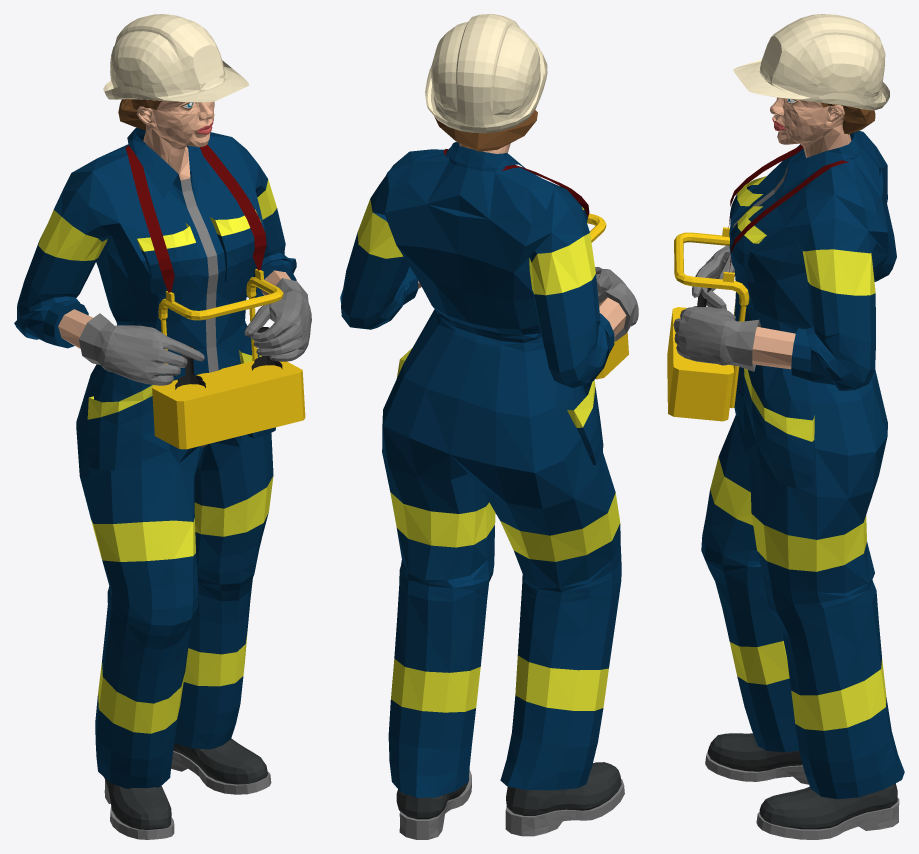
Rendered from Worker_004.fbx.
The picture shows the model from 3 angles, left to right: view 1: azimuth 30°, elevation 25°; view 2: azimuth 150°, elevation 25°; view 3: azimuth 270°, elevation 25°; orthographic projection. The views are drawn at different scales.
Parts seen in each view (by area): view 1: SKP_X3GPL_COL_MAT2_a7c8af71\, SKP_X3GPL_COL_MAT3_a7c8af71\, SKP_X3GPL_COL_MAT1_a7c8af71\, SKP_SKP_*13_3bd84d03_a7c8af71\, SKP_SKP_SKP__67627a60_a7c8af71\, SKP_SKP_*16_3bd84d03_a7c8af71\, SKP_SKP_*8_3bd84d03_a7c8af71\, SKP_X3GPL_COL_MAT_a7c8af71\, SKP_SKP_*7_3bd84d03_a7c8af71\, SKP_SKP_<Cha_dba7c0d6_a7c8af71\; view 2: SKP_X3GPL_COL_MAT2_a7c8af71\, SKP_X3GPL_COL_MAT3_a7c8af71\, SKP_SKP_SKP__67627a60_a7c8af71\, SKP_X3GPL_COL_MAT1_a7c8af71\, SKP_SKP_*16_3bd84d03_a7c8af71\, SKP_SKP_*7_3bd84d03_a7c8af71\, SKP_SKP_*13_3bd84d03_a7c8af71\, SKP_SKP_*8_3bd84d03_a7c8af71\; view 3: SKP_X3GPL_COL_MAT2_a7c8af71\, SKP_X3GPL_COL_MAT3_a7c8af71\, SKP_SKP_SKP__67627a60_a7c8af71\, SKP_X3GPL_COL_MAT1_a7c8af71\, SKP_SKP_*13_3bd84d03_a7c8af71\, SKP_SKP_*16_3bd84d03_a7c8af71\, SKP_SKP_*8_3bd84d03_a7c8af71\, SKP_X3GPL_COL_MAT_a7c8af71\, SKP_SKP_*7_3bd84d03_a7c8af71\.
Part boxes in pixels (box(x1,y1,x2,y2)): SKP_X3GPL_COL_MAT2_a7c8af71\: box(14, 127, 296, 788); SKP_X3GPL_COL_MAT3_a7c8af71\: box(38, 179, 276, 733); SKP_X3GPL_COL_MAT1_a7c8af71\: box(79, 178, 311, 839); SKP_SKP_*13_3bd84d03_a7c8af71\: box(152, 269, 305, 449); SKP_SKP_SKP__67627a60_a7c8af71\: box(103, 14, 248, 102); SKP_SKP_*16_3bd84d03_a7c8af71\: box(104, 738, 267, 829); SKP_SKP_*8_3bd84d03_a7c8af71\: box(58, 100, 291, 348); SKP_X3GPL_COL_MAT_a7c8af71\: box(125, 140, 266, 292); SKP_SKP_*7_3bd84d03_a7c8af71\: box(118, 99, 191, 130); SKP_SKP_<Cha_dba7c0d6_a7c8af71\: box(175, 327, 282, 389); SKP_X3GPL_COL_MAT2_a7c8af71\: box(340, 142, 621, 797); SKP_X3GPL_COL_MAT3_a7c8af71\: box(357, 199, 620, 712); SKP_SKP_SKP__67627a60_a7c8af71\: box(425, 14, 547, 133); SKP_X3GPL_COL_MAT1_a7c8af71\: box(399, 267, 638, 839); SKP_SKP_*16_3bd84d03_a7c8af71\: box(396, 762, 621, 819); SKP_SKP_*7_3bd84d03_a7c8af71\: box(434, 110, 537, 151); SKP_SKP_*13_3bd84d03_a7c8af71\: box(587, 213, 628, 379); SKP_SKP_*8_3bd84d03_a7c8af71\: box(418, 143, 626, 336); SKP_X3GPL_COL_MAT2_a7c8af71\: box(701, 131, 904, 799); SKP_X3GPL_COL_MAT3_a7c8af71\: box(710, 176, 886, 730); SKP_SKP_SKP__67627a60_a7c8af71\: box(733, 14, 889, 110); SKP_X3GPL_COL_MAT1_a7c8af71\: box(673, 166, 899, 839); SKP_SKP_*13_3bd84d03_a7c8af71\: box(667, 227, 749, 421); SKP_SKP_*16_3bd84d03_a7c8af71\: box(708, 733, 897, 829); SKP_SKP_*8_3bd84d03_a7c8af71\: box(752, 97, 851, 369); SKP_X3GPL_COL_MAT_a7c8af71\: box(728, 139, 851, 272); SKP_SKP_*7_3bd84d03_a7c8af71\: box(788, 99, 875, 134).
Size of the model in its own units: 626 by 476 by 1738.
